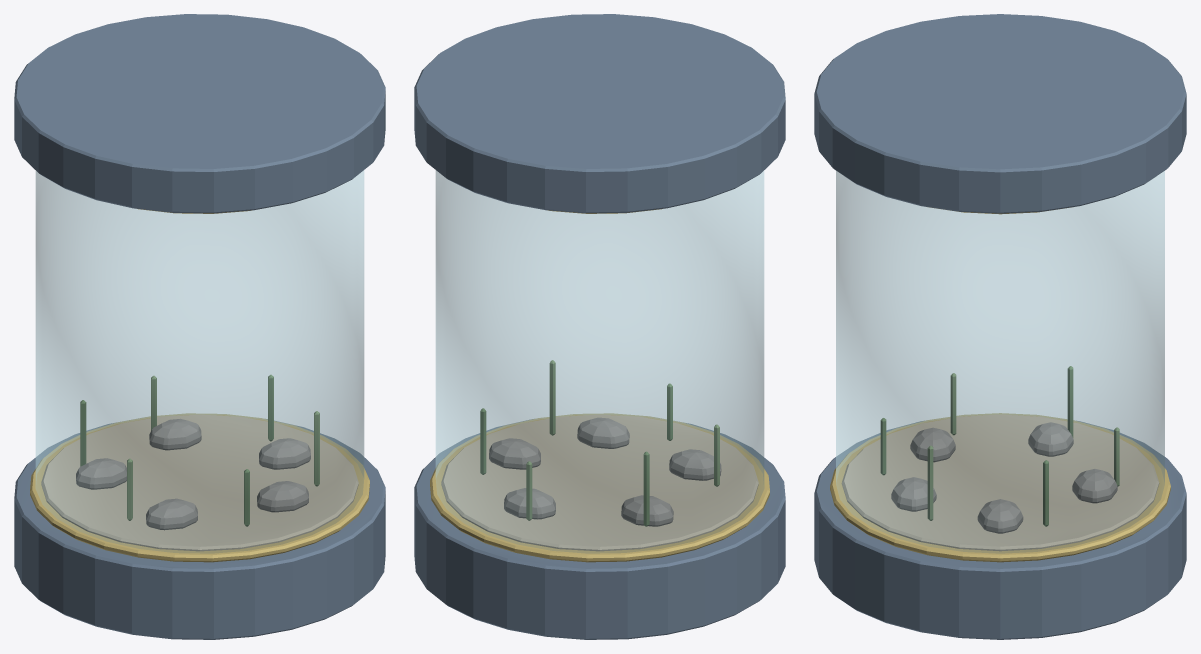
The model's file is furn_aquarium_pillar__navy.glb.
The picture shows the model from 3 angles, left to right: view 1: azimuth 30°, elevation 25°; view 2: azimuth 150°, elevation 25°; view 3: azimuth 270°, elevation 25°; orthographic projection.
Bounding box in the file's own units: 1.9 × 2.65 × 1.9.
